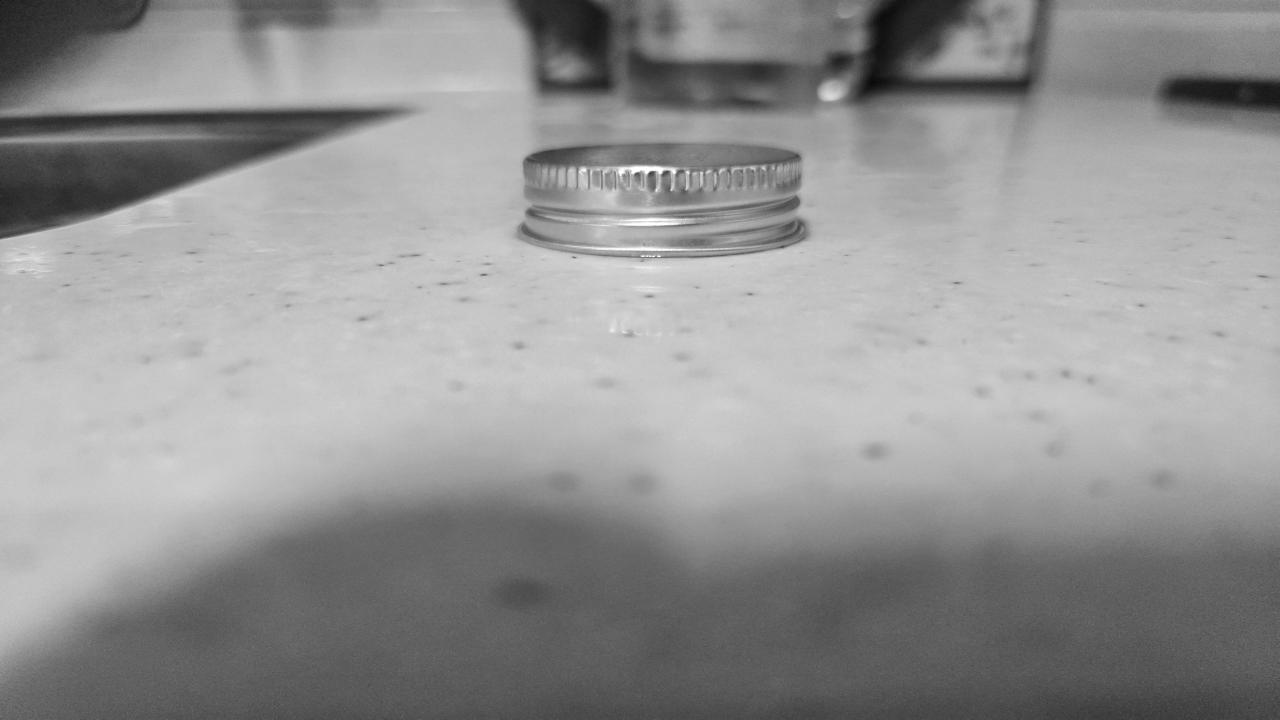bottle_cap: (518, 143, 804, 257)
